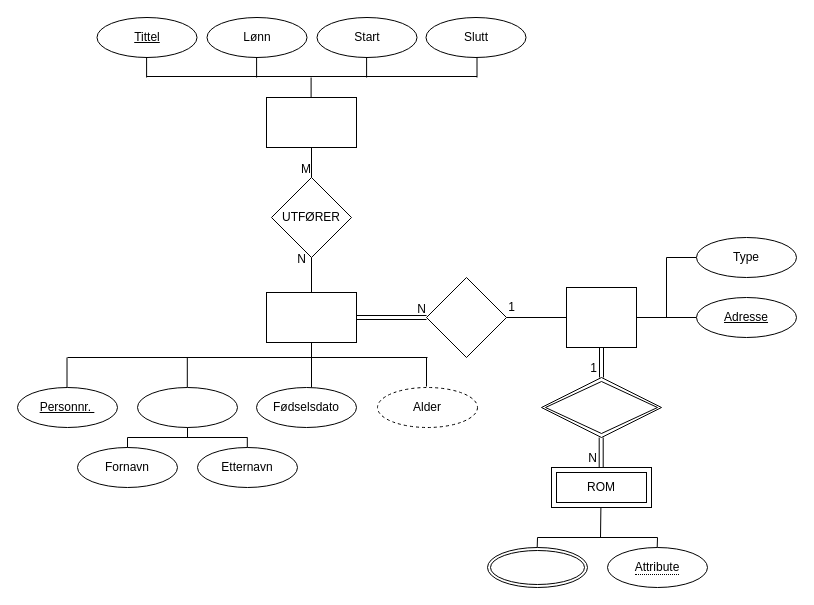
Some shapes in this 814 by 605 pixel diagram are drawn without their labels. Here are the shapes that lost their labels. From the top down, the centre of each, then its label:
At pixel 311 122: "YRKE".
At pixel 311 317: "MENNESKE".
At pixel 466 317: "BOR_I".
At pixel 601 317: "BOLIG".
At pixel 187 407: "Navn".
At pixel 601 407: "INNEHOLDER".
At pixel 537 567: "Bruksområde".
